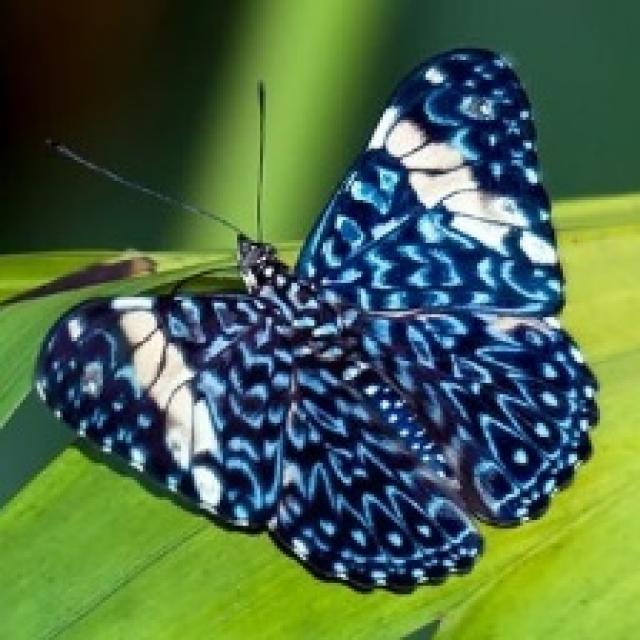butterfly: (23, 43, 600, 594)
